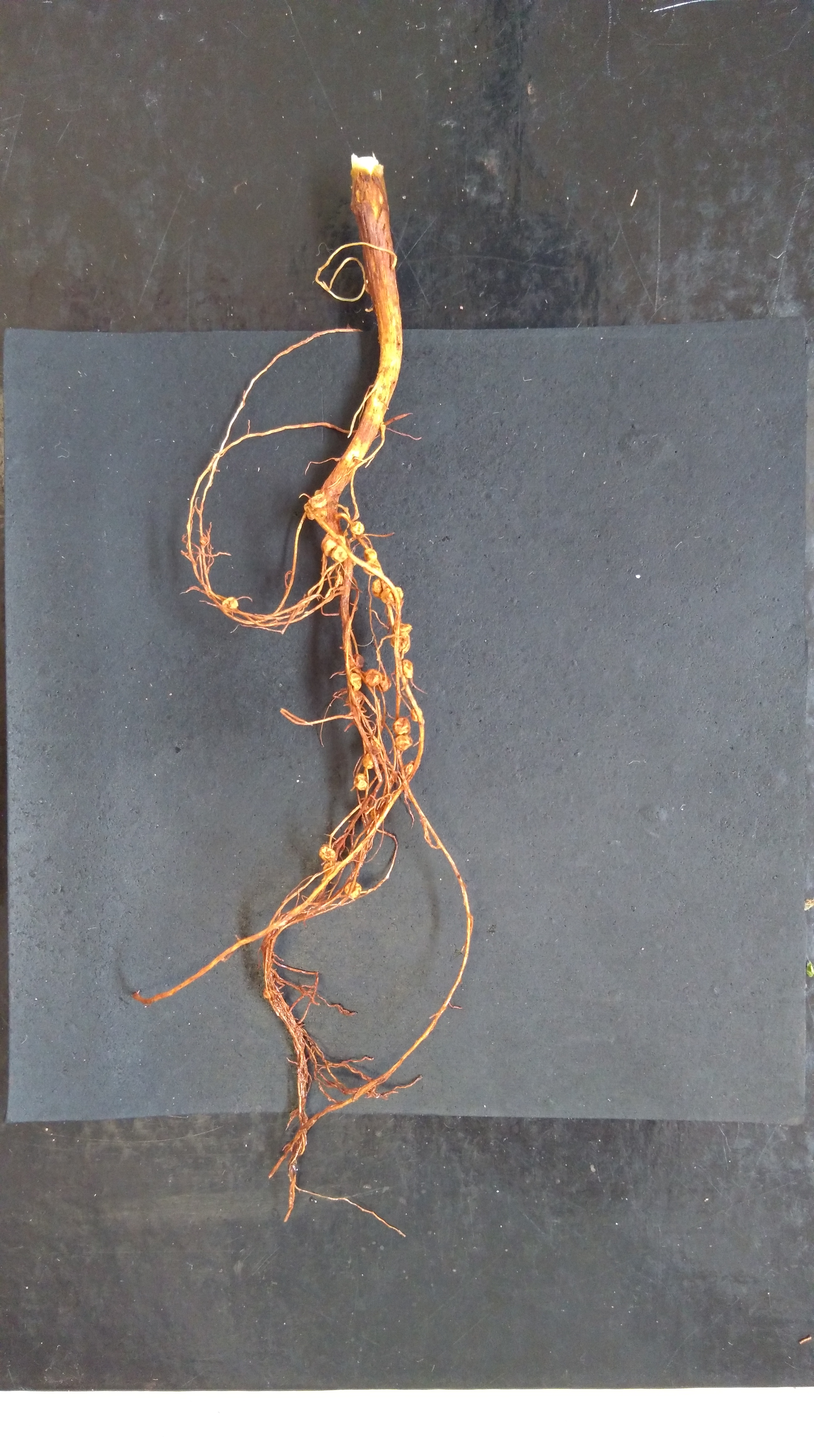nodule: (320, 532, 349, 563), (302, 493, 329, 522), (390, 623, 413, 655), (379, 585, 405, 606), (392, 715, 412, 736), (342, 879, 362, 899), (352, 772, 370, 793), (393, 734, 414, 752), (375, 671, 392, 692), (361, 559, 380, 577), (317, 845, 337, 862), (369, 577, 383, 600), (365, 668, 381, 688), (360, 751, 376, 771), (349, 519, 365, 537), (402, 658, 415, 680), (348, 671, 362, 691), (362, 546, 379, 562), (409, 706, 423, 723), (222, 595, 239, 609), (351, 691, 365, 706), (353, 652, 365, 669), (405, 760, 418, 775), (322, 862, 335, 875), (262, 988, 272, 998), (199, 536, 207, 545)
